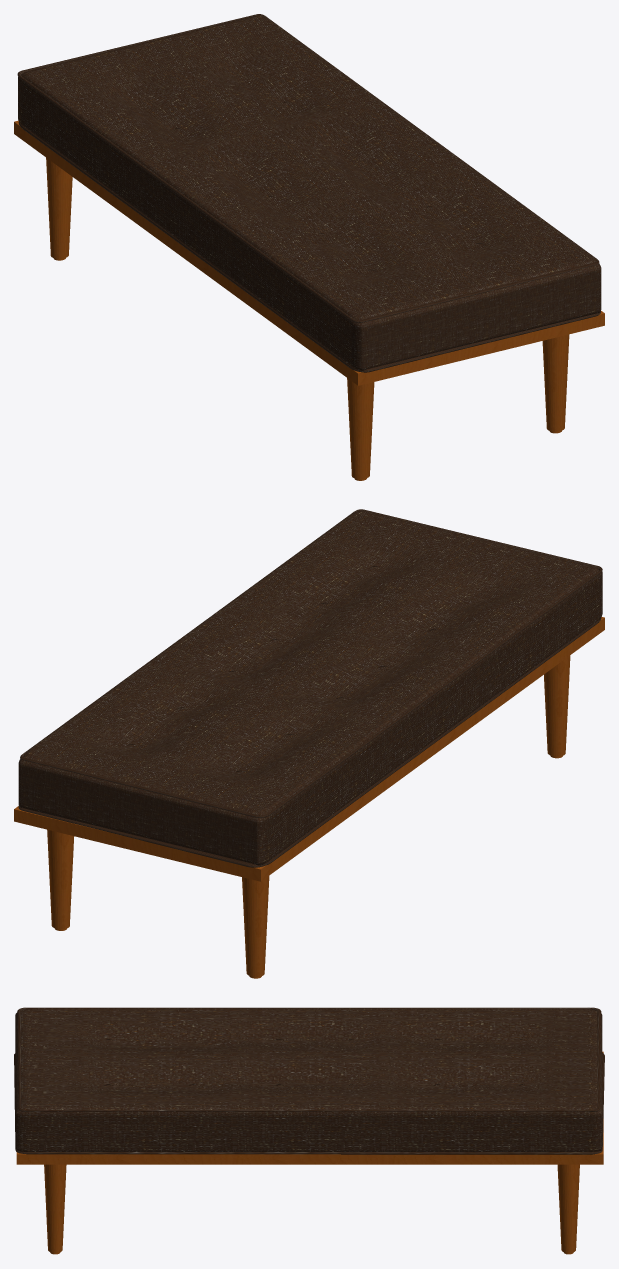
Rendered from Alexandra1.glb.
3 renders of one model, top to bottom at view 1: azimuth 30°, elevation 25°; view 2: azimuth 150°, elevation 25°; view 3: azimuth 270°, elevation 25°, orthographic. The views are drawn at different scales.
Parts seen in each view (by area): view 1: Cylinder.005, Plane.004, Cylinder.025, Cylinder.024, Cylinder.022; view 2: Cylinder.005, Plane.004, Cylinder.022, Cylinder.023, Cylinder.025; view 3: Cylinder.005, Plane.004, Cylinder.024, Cylinder.023.
Part boxes in pixels (x1,y1,x2,y2): Cylinder.005: [17, 14, 601, 372]; Plane.004: [14, 120, 604, 385]; Cylinder.025: [347, 378, 374, 480]; Cylinder.024: [542, 334, 569, 433]; Cylinder.022: [46, 157, 72, 260]; Cylinder.005: [18, 509, 602, 867]; Plane.004: [14, 617, 604, 881]; Cylinder.022: [242, 876, 269, 978]; Cylinder.023: [47, 829, 74, 930]; Cylinder.025: [544, 655, 570, 758]; Cylinder.005: [14, 1007, 604, 1154]; Plane.004: [16, 1051, 603, 1164]; Cylinder.024: [44, 1164, 66, 1254]; Cylinder.023: [557, 1164, 579, 1254].
Bounding box in the file's own units: 0.5187 × 0.3582 × 1.25.
Materials: 2 (2 with a texture image).
